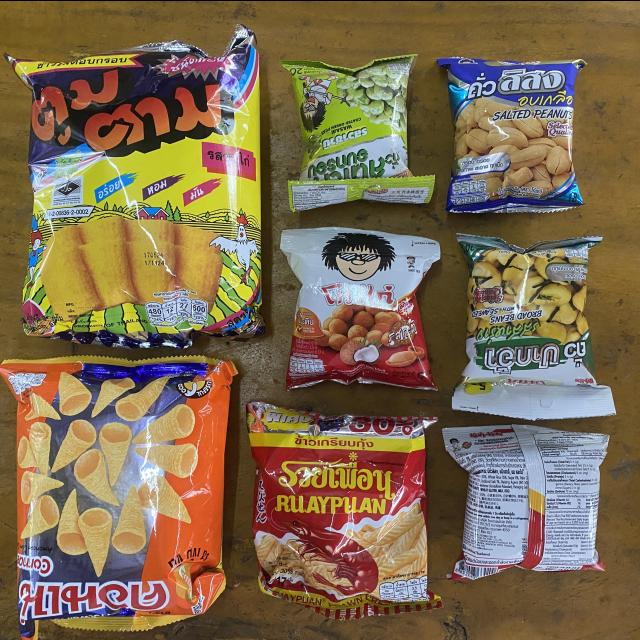plastik: (7, 25, 263, 347), (0, 356, 237, 640), (247, 402, 441, 618), (452, 233, 615, 418), (442, 423, 609, 578), (281, 227, 440, 388), (282, 54, 435, 209), (437, 57, 586, 212)
